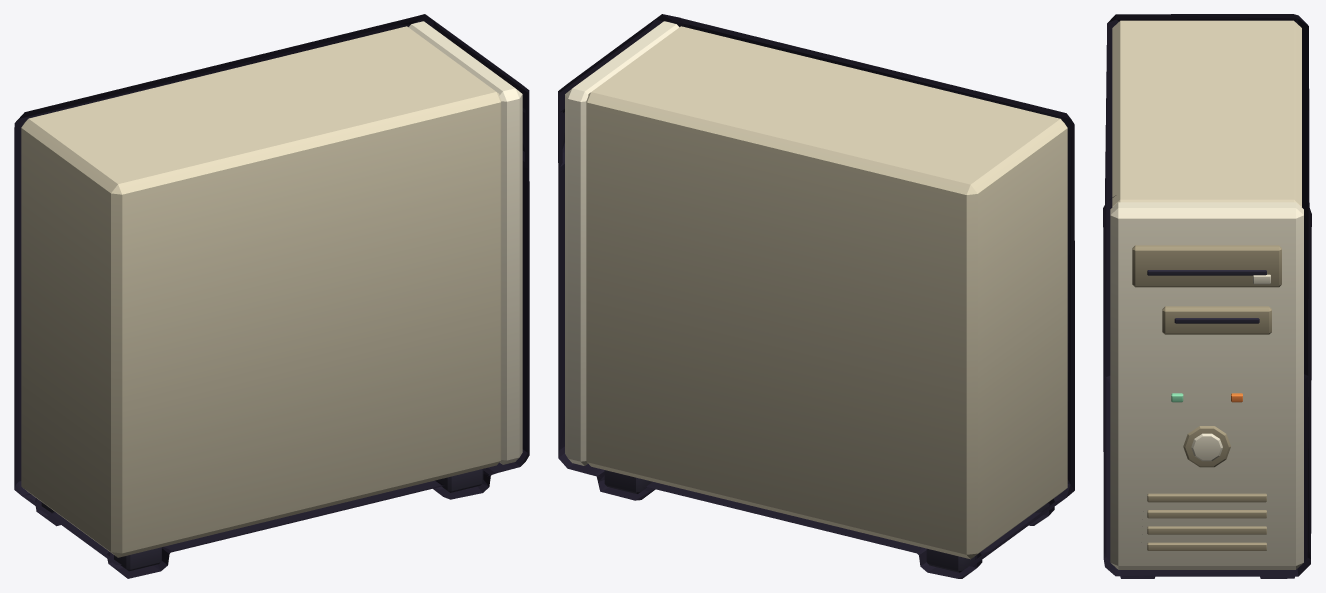
File: Computer_Tower_Outline.fbx
3 views of the same model, side by side, from view 1: azimuth 30°, elevation 25°; view 2: azimuth 150°, elevation 25°; view 3: azimuth 270°, elevation 25° (orthographic). The views are drawn at different scales.
Parts seen in each view (by area): view 1: Computer_Tower; view 2: Computer_Tower; view 3: Computer_Tower.
Boxes of the visible parts, x1,y1,x2,y2 form: Computer_Tower: (14, 14, 529, 578); Computer_Tower: (558, 14, 1074, 578); Computer_Tower: (1103, 14, 1311, 578).
Bounding box in the file's own units: 2.18 × 1.96 × 0.9411.
Materials: 1 (1 with a texture image).
